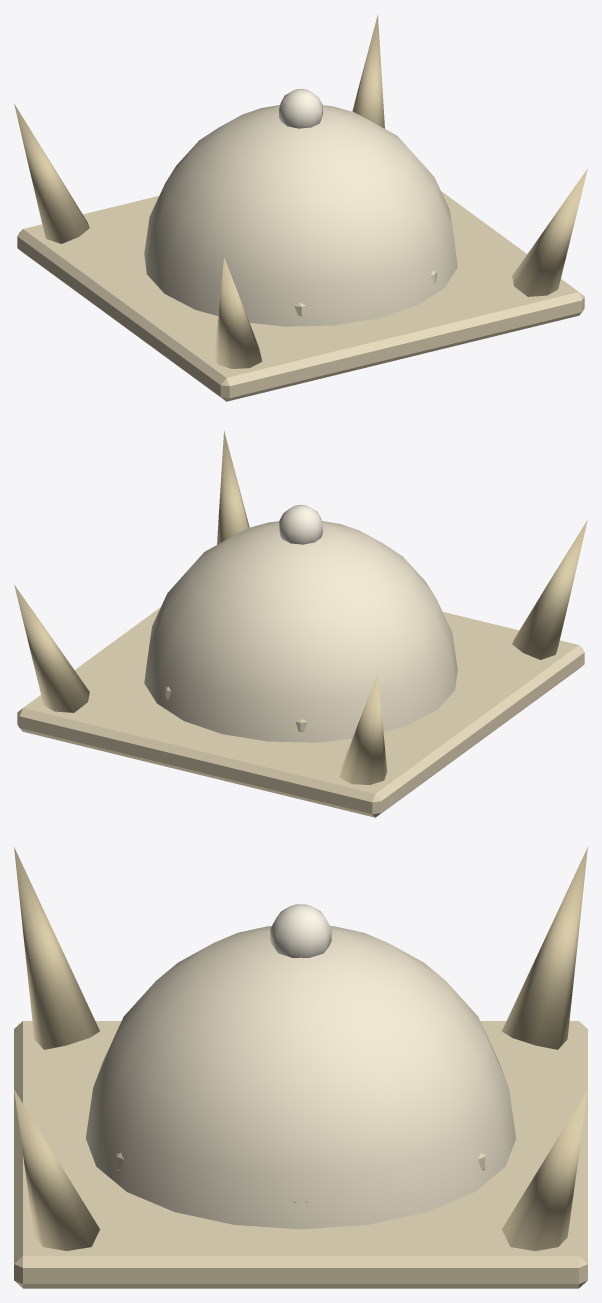
Rendered from block_bone_cap.glb.
3 renders of one model, top to bottom at view 1: azimuth 30°, elevation 25°; view 2: azimuth 150°, elevation 25°; view 3: azimuth 270°, elevation 25°, orthographic. The views are drawn at different scales.
Visible parts, largest first — view 1: BoneCap; view 2: BoneCap; view 3: BoneCap.
Part boxes in pixels (x1,y1,x2,y2): BoneCap: (14, 14, 587, 401); BoneCap: (14, 430, 587, 817); BoneCap: (14, 847, 587, 1288).
Bounding box in the file's own units: 1.28 × 0.65 × 1.28.
